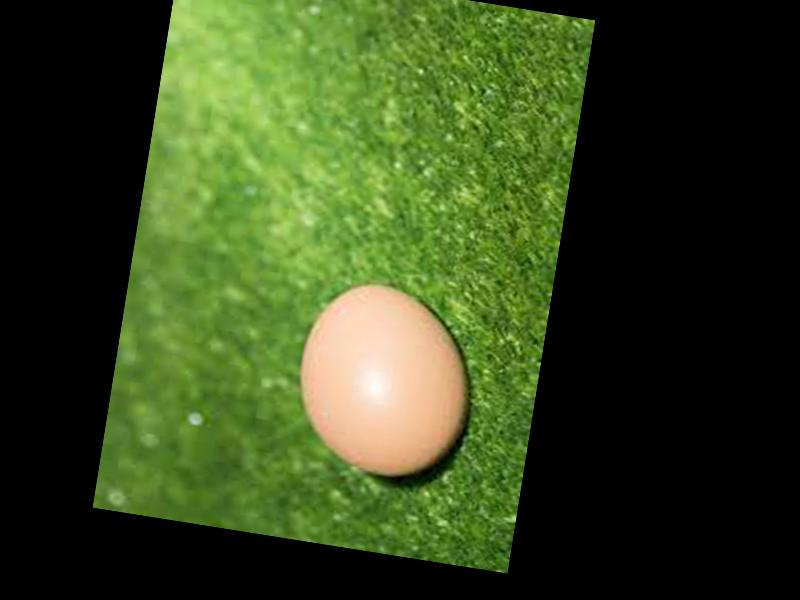Eggs: (288, 272, 486, 488)
